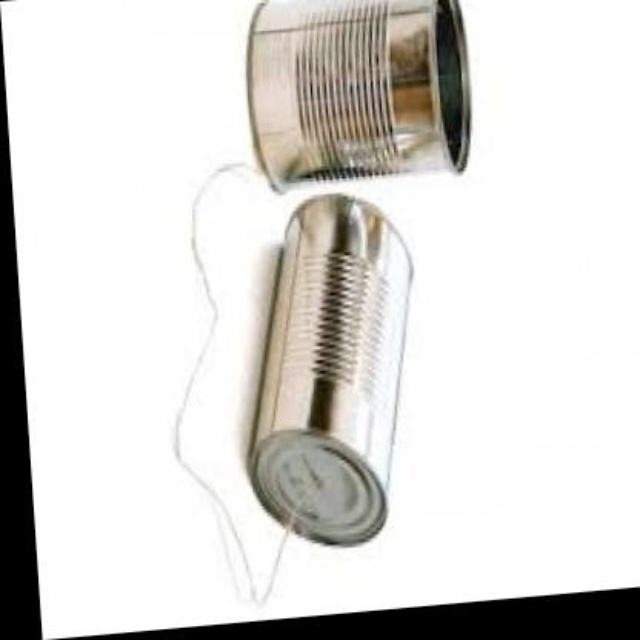trash: (248, 194, 411, 545), (248, 0, 469, 188)
